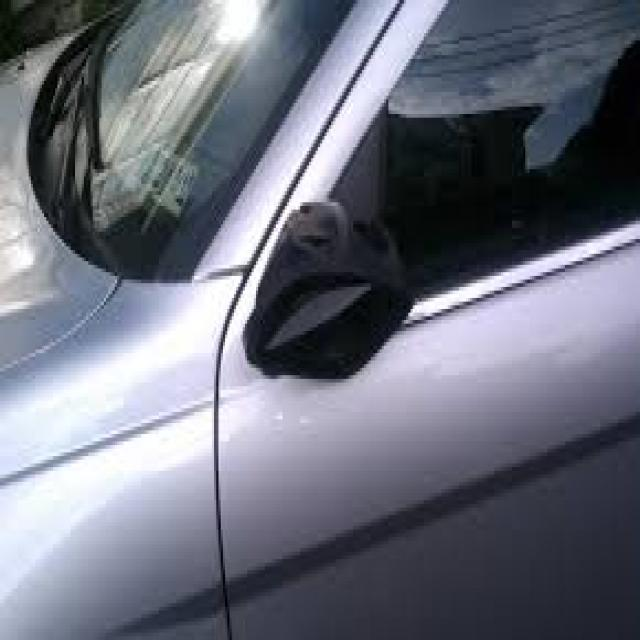minor: (204, 92, 418, 380)
